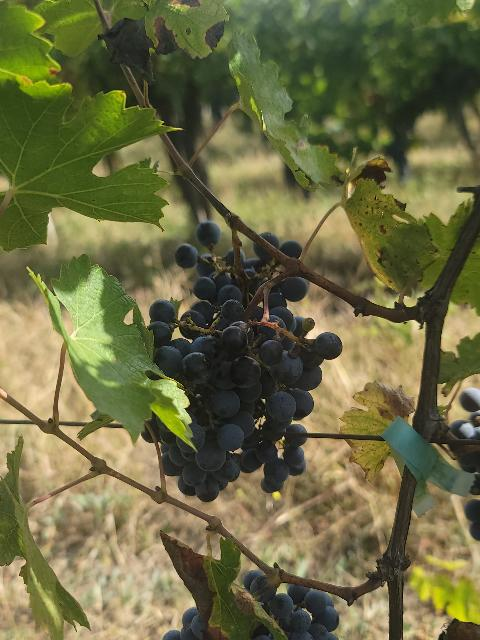grapes: (150, 301, 341, 501), (243, 570, 340, 640), (175, 244, 245, 325), (269, 276, 309, 335), (239, 242, 271, 295), (162, 606, 205, 640), (260, 232, 302, 259), (196, 221, 221, 249), (250, 624, 274, 640), (224, 248, 235, 269), (250, 306, 262, 321)
